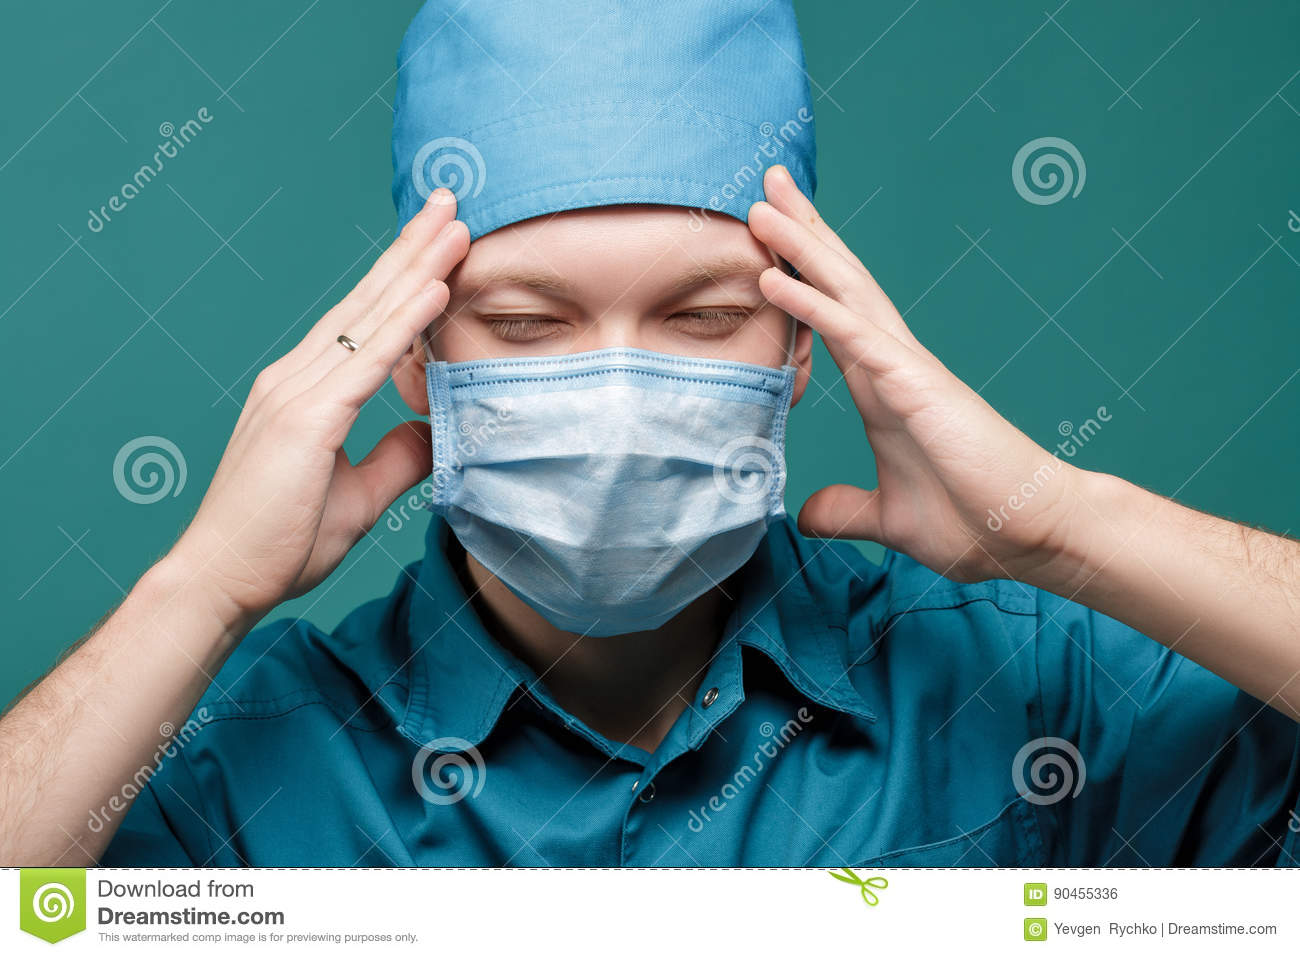mask: (410, 345, 794, 614)
